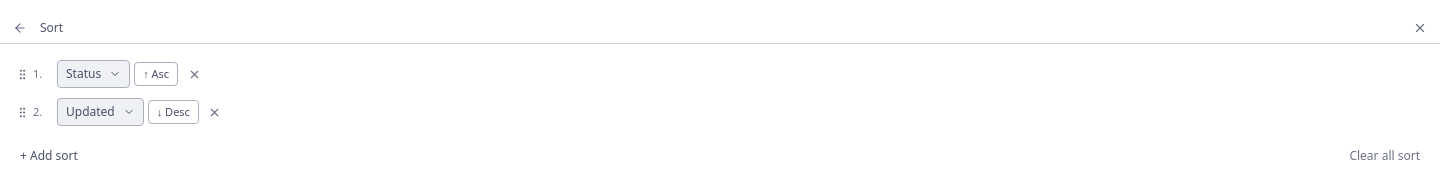
Scenario: SortPanel › property picker excludes properties used by other rows
Click the dropdown named "Sort property for level 1": x=94, y=74 [57,60,130,88]
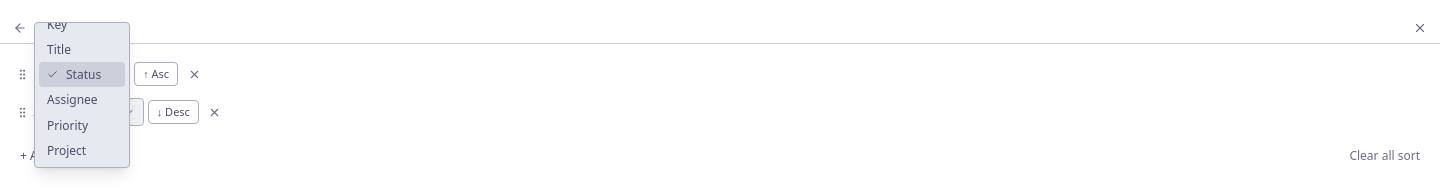
Check: the text "Status" is shown, box [66,66,101,83]
